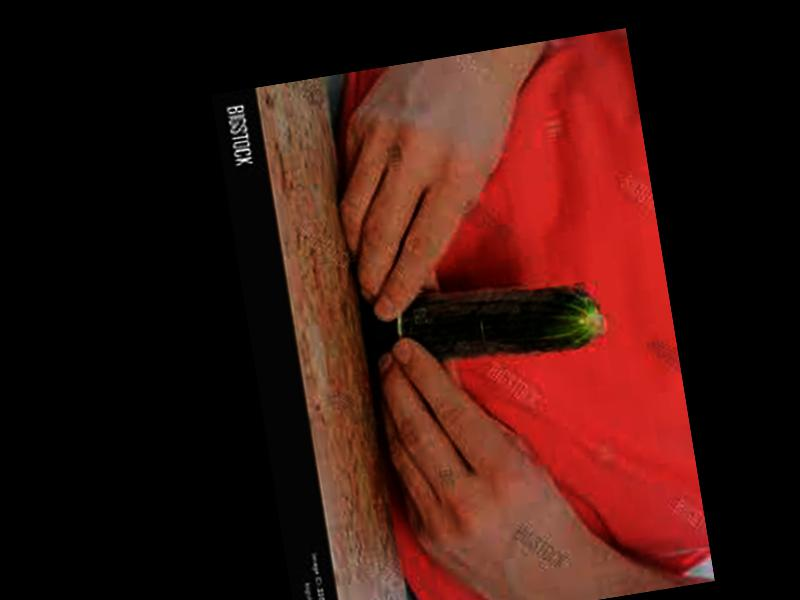Cucumber: (361, 267, 607, 382)
